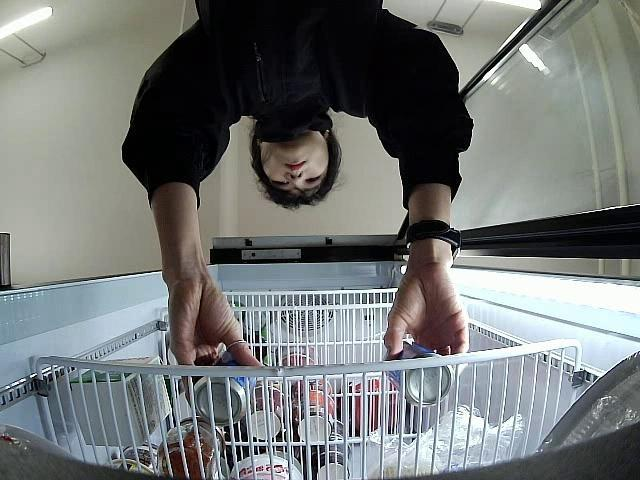15_letsbe: (192, 352, 257, 426), (383, 340, 452, 406)
